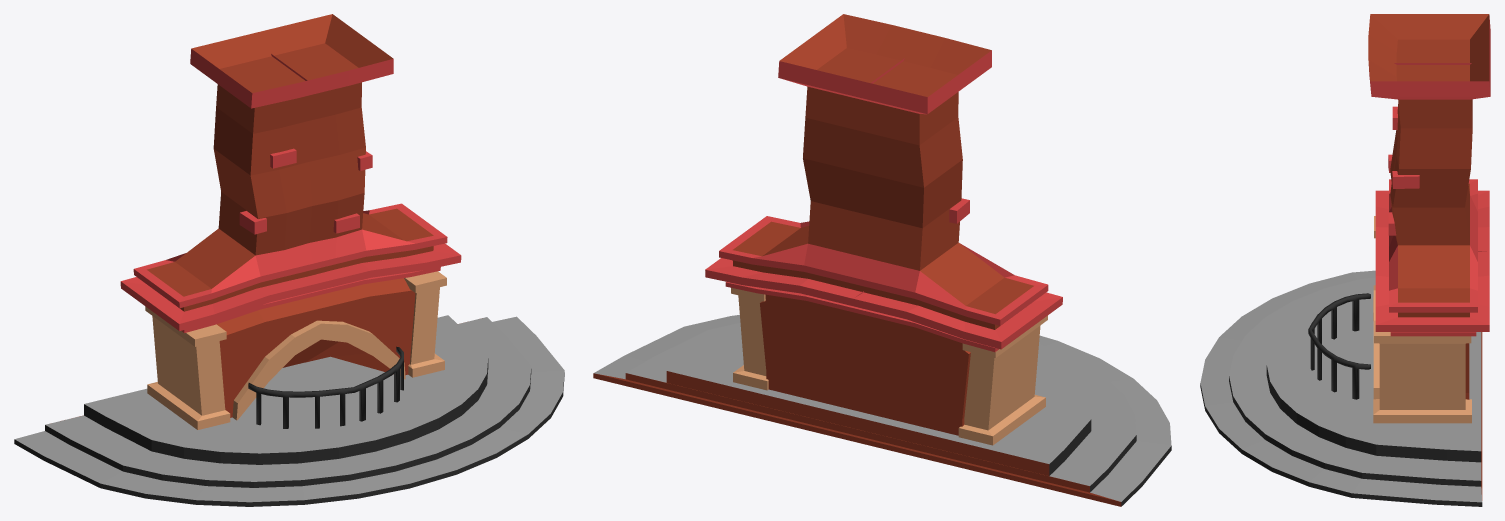
The model's file is fireplace.fbx.
3 renders of one model, left to right at view 1: azimuth 30°, elevation 25°; view 2: azimuth 150°, elevation 25°; view 3: azimuth 270°, elevation 25°, orthographic. The views are drawn at different scales.
Parts seen in each view (by area): view 1: Cylinder; view 2: Cylinder; view 3: Cylinder.
Part boxes in pixels (<box>): Cylinder: <box>14,14,564,506</box>; Cylinder: <box>593,14,1171,506</box>; Cylinder: <box>1200,14,1490,506</box>.
Size of the model in its own units: 924 by 613 by 474.
